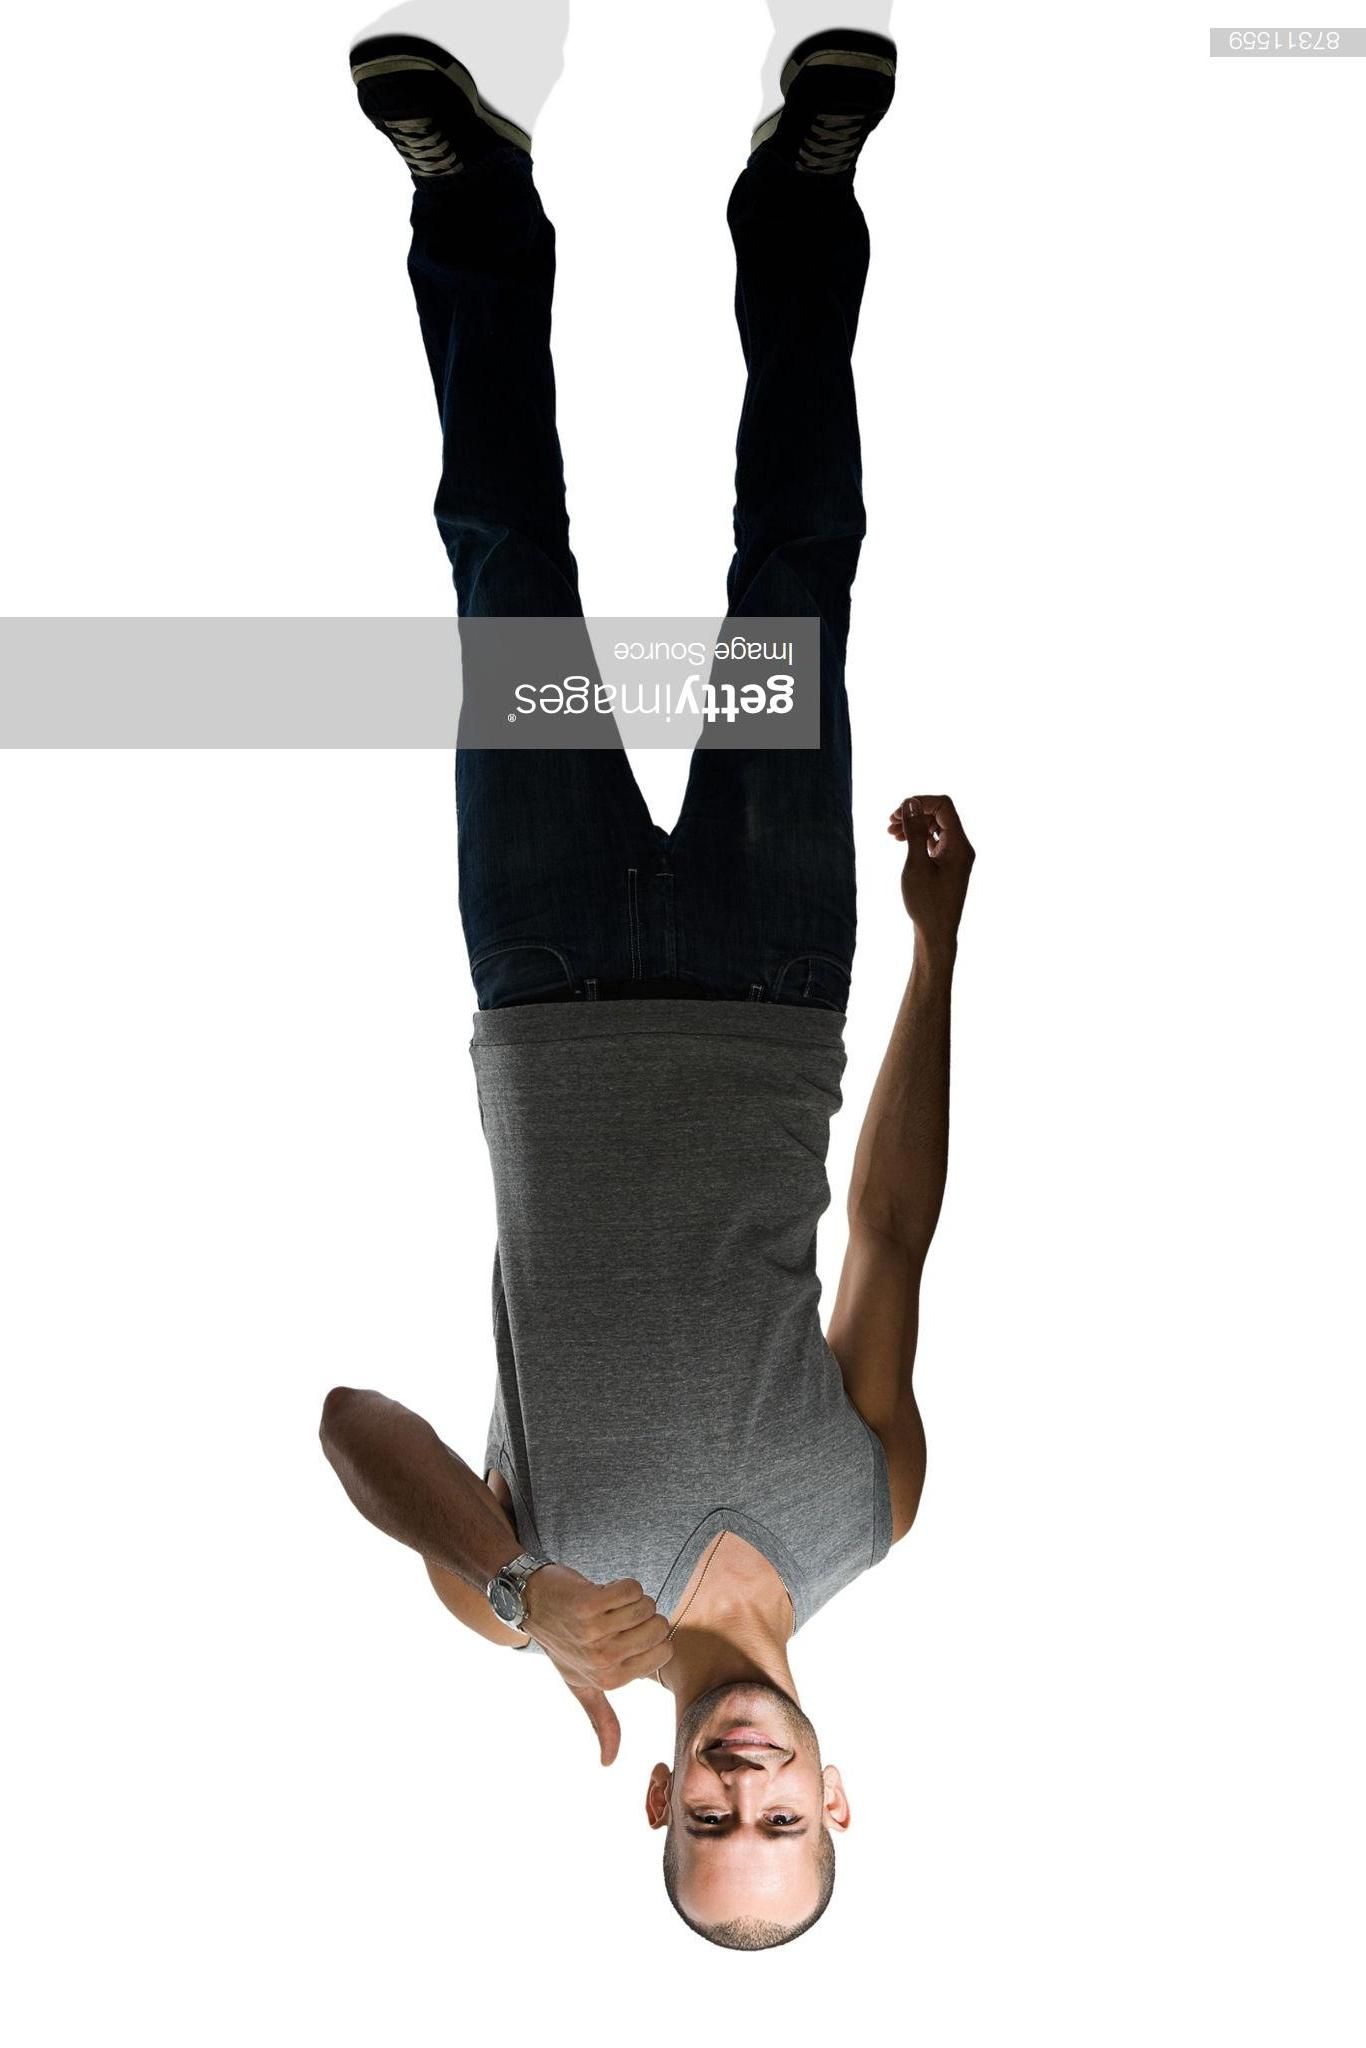thumbsdown: (576, 1579, 675, 1768)
